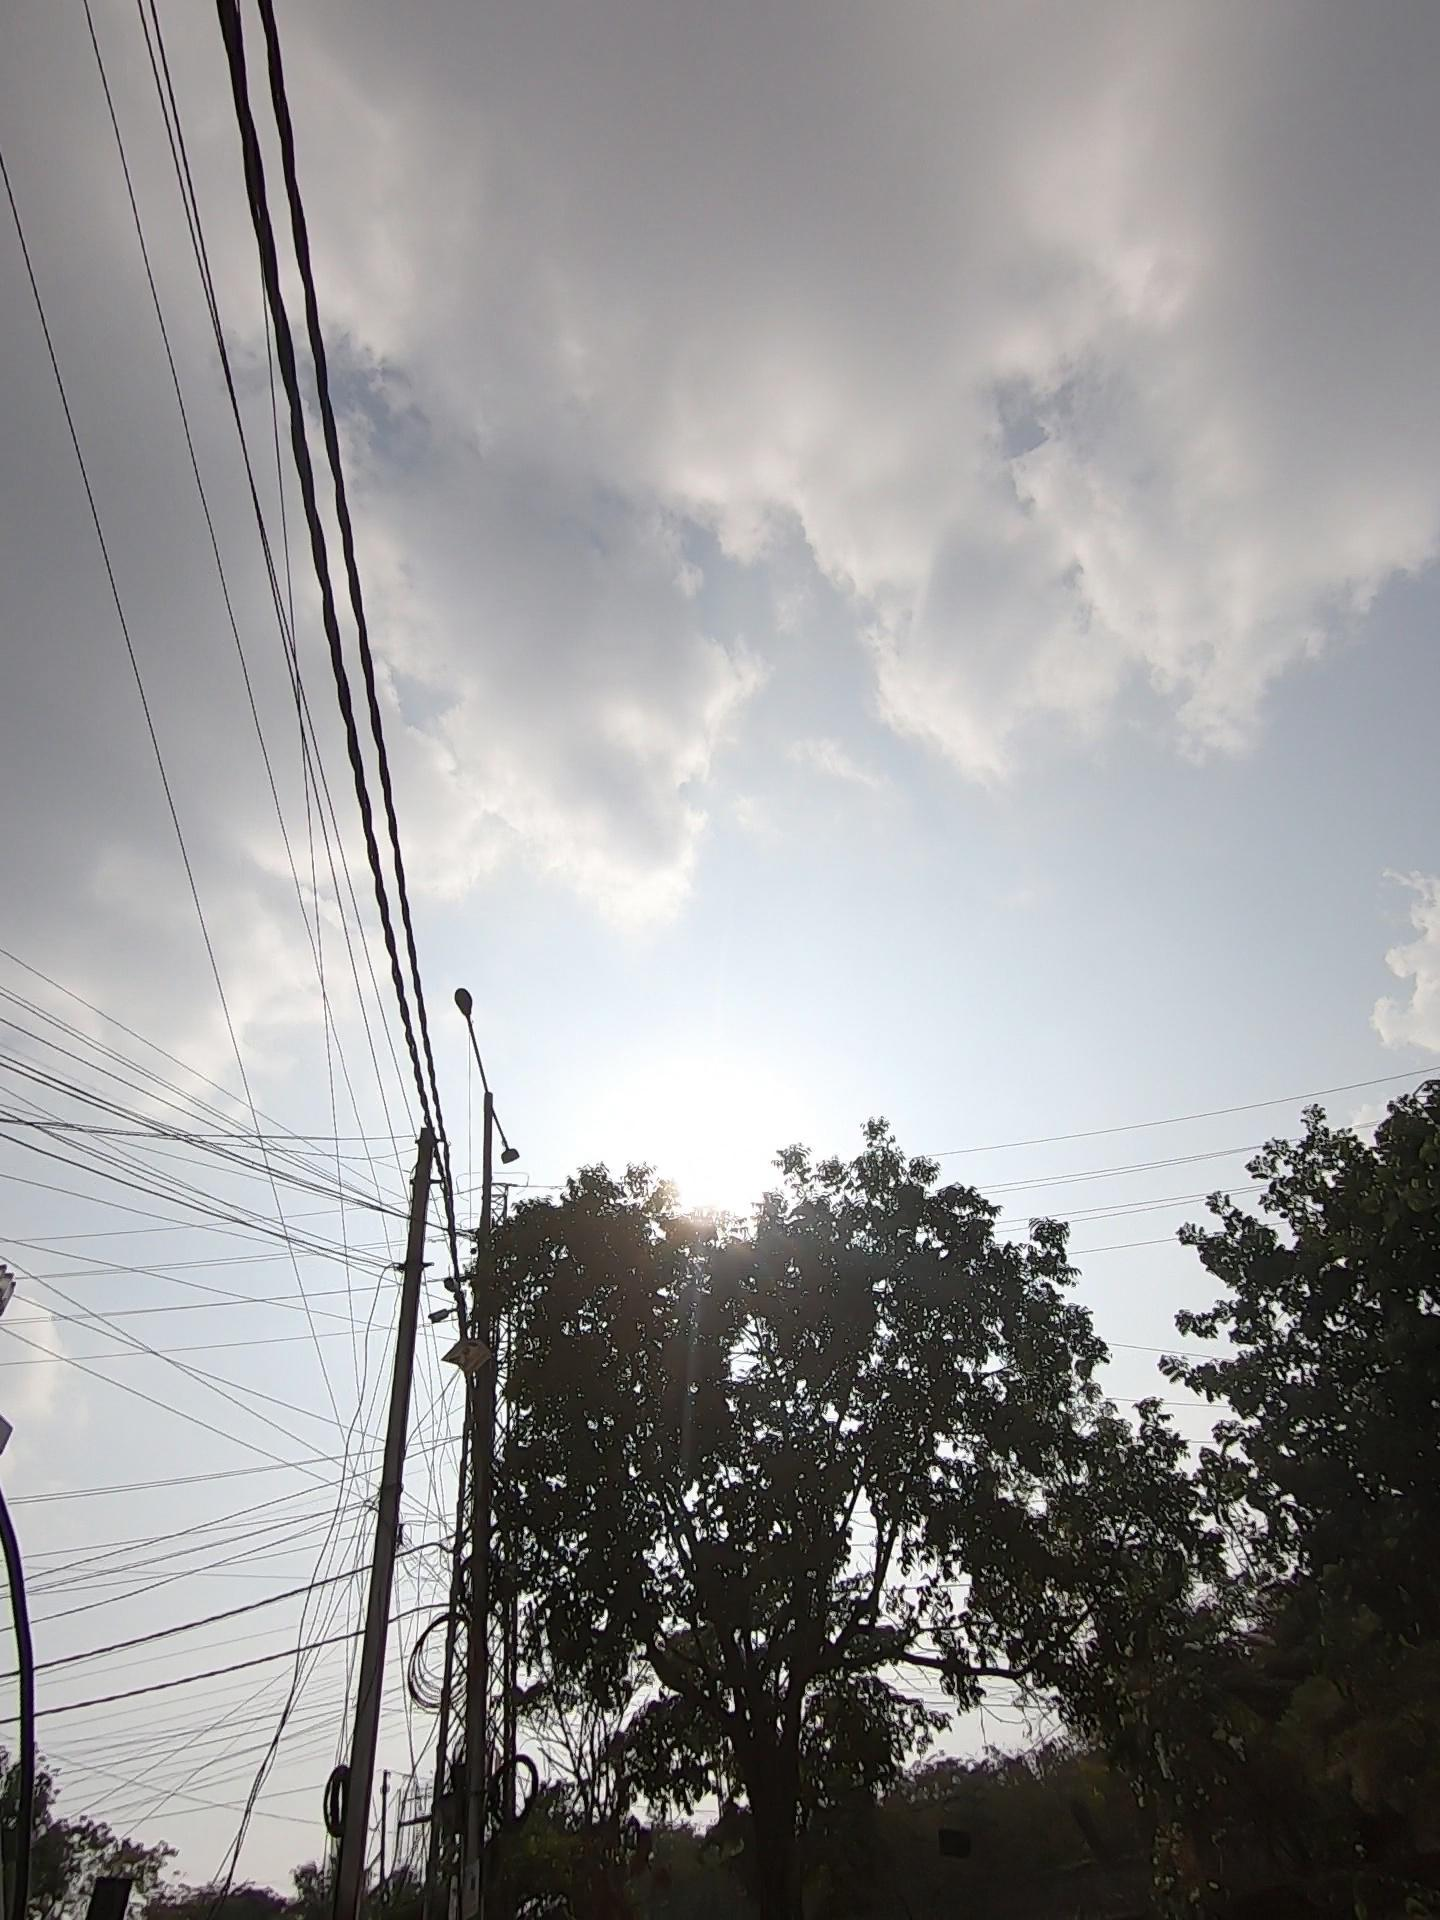off: (405, 901, 591, 1252)
